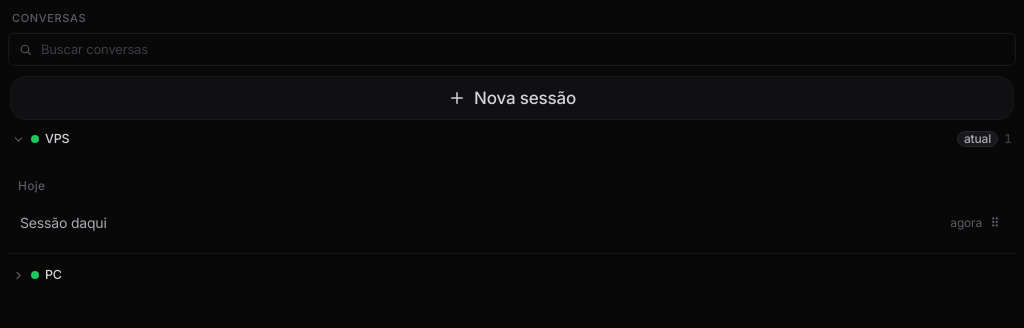
Test: sidebar grouped by box › says so when this device is not enrolled on the other box
Click the button with aria-label "Expandir PC".
click(18, 275)  # box top-left (8, 262), bottom-right (1016, 289)
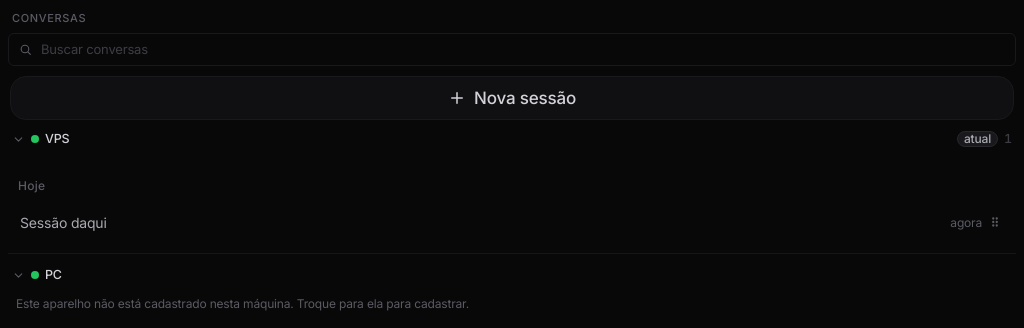
Check: the text "não está cadastrado nesta máquina" is shown, box top-left (16, 296), bottom-right (469, 310)
